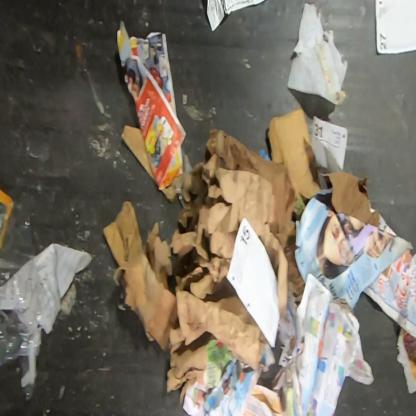cardboard: (101, 154, 288, 372), (206, 128, 304, 296), (268, 106, 321, 201), (321, 168, 380, 226), (120, 124, 155, 183)
soft_plastic: (0, 194, 49, 402)
